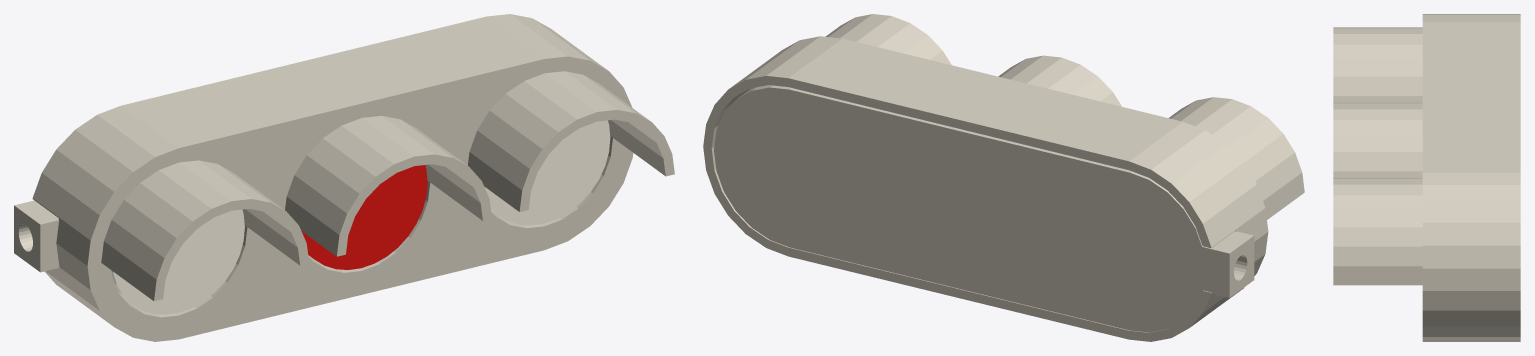
File: traffic_light_yellow.fbx
The picture shows the model from 3 angles, left to right: view 1: azimuth 30°, elevation 25°; view 2: azimuth 150°, elevation 25°; view 3: azimuth 270°, elevation 25°; orthographic projection. The views are drawn at different scales.
Parts seen in each view (by area): view 1: traffic_light_body, traffic_light_yellow; view 2: traffic_light_body; view 3: traffic_light_body.
Part boxes in pixels (x1,y1,x2,y2): traffic_light_body: (14,14,674,341); traffic_light_yellow: (111,120,610,314); traffic_light_body: (703,14,1304,341); traffic_light_body: (1333,14,1520,341).
Size of the model in its own units: 123 by 40 by 42.
